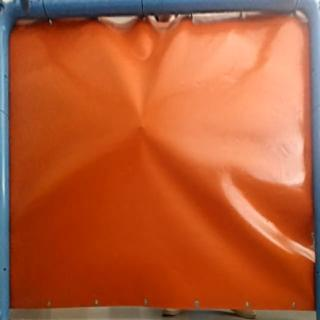Hit-hRxx: (132, 118, 152, 134)
